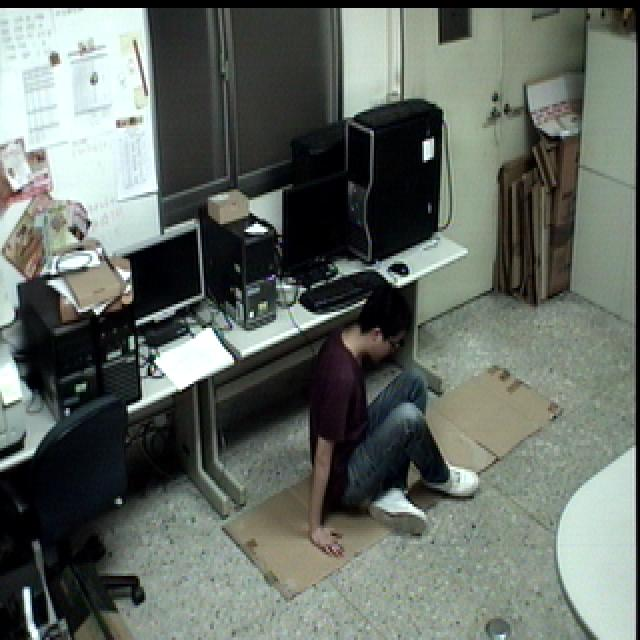sit: (302, 279, 491, 561)
